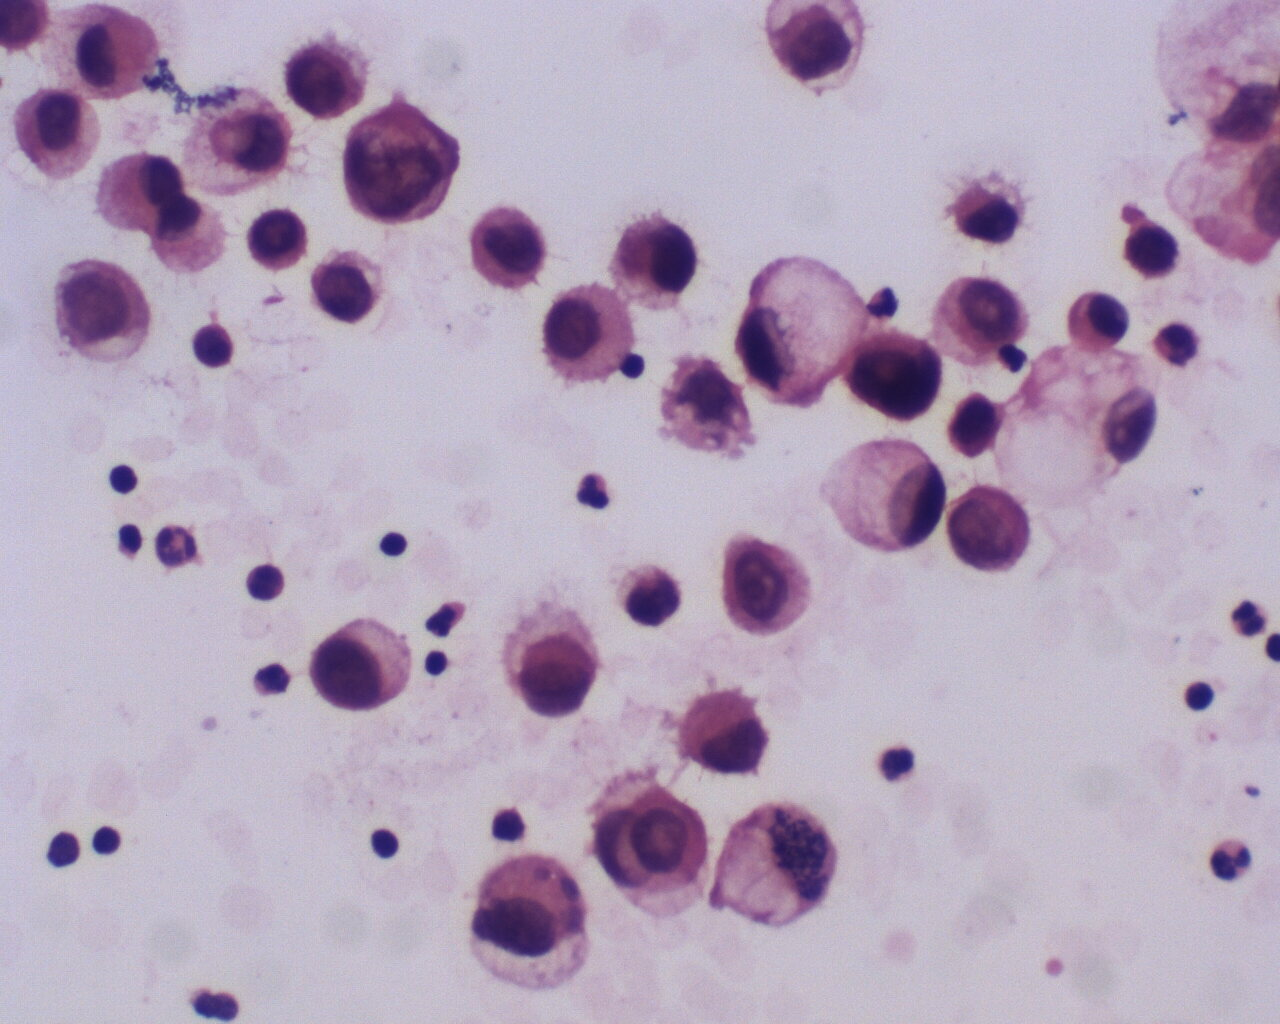ab: (709, 796, 837, 940), (466, 856, 603, 990), (587, 774, 709, 920), (342, 98, 463, 228), (42, 252, 153, 370), (501, 597, 602, 720), (309, 609, 415, 720), (718, 529, 815, 639), (839, 324, 939, 430), (931, 272, 1037, 372), (673, 684, 772, 779), (279, 37, 374, 127), (459, 205, 552, 294), (948, 480, 1030, 578), (302, 248, 391, 330), (608, 556, 686, 631), (950, 178, 1024, 249), (1116, 210, 1185, 282), (243, 207, 312, 277), (950, 389, 1003, 458)
histo: (1006, 339, 1159, 509), (735, 253, 874, 411), (819, 429, 946, 563), (143, 194, 231, 276)
lymph: (102, 460, 140, 498), (87, 823, 123, 862), (1182, 676, 1217, 714), (368, 825, 404, 861), (374, 529, 413, 562), (424, 646, 451, 679)
meso: (540, 282, 639, 385), (8, 87, 109, 187), (61, 10, 164, 101), (611, 212, 702, 312), (1060, 286, 1128, 354)
neutro: (1207, 834, 1255, 888), (1228, 594, 1274, 643), (572, 467, 616, 512)
